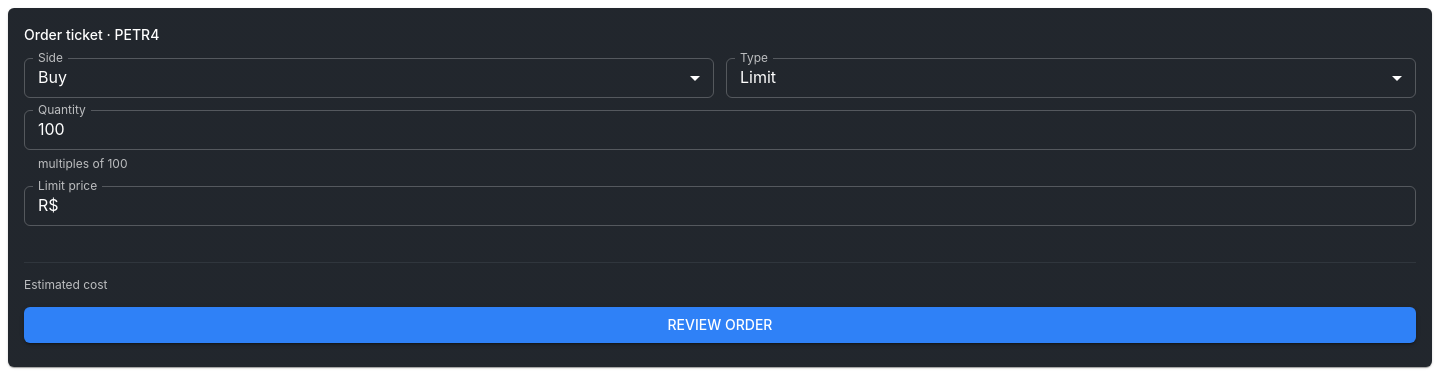
Scenario: the price field › disappears on a market order, which carries no price
Expected: the field labelled "Limit price" is shown, [67,186,1416,226]
What coordinates should you click on to do the following:
click the dropdown named "type"
I would click on:
 (758, 78)
Its box is [740,68,776,88].
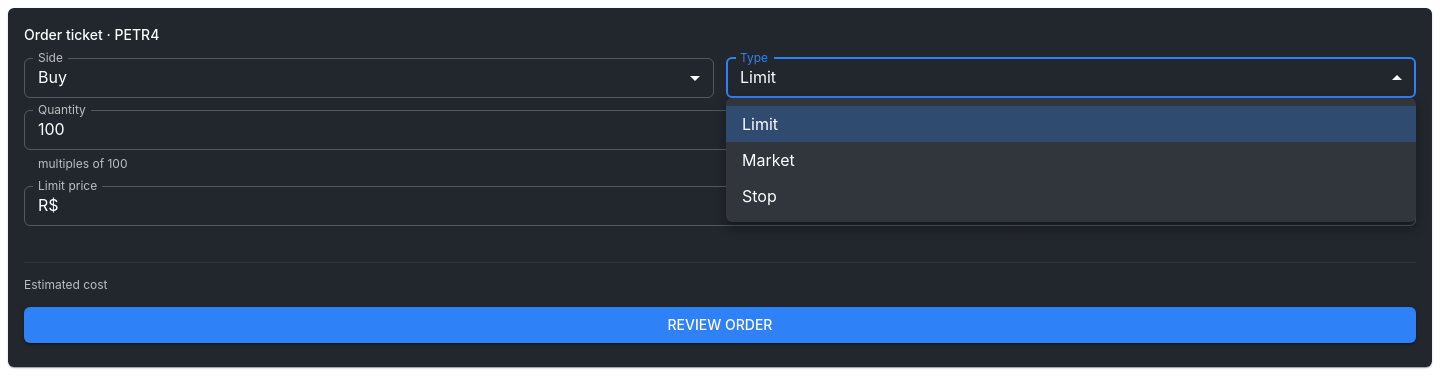
What coordinates should you click on to do the following:
click the option "Market"
I would click on:
 (768, 160)
Its box is [742,150,795,170].
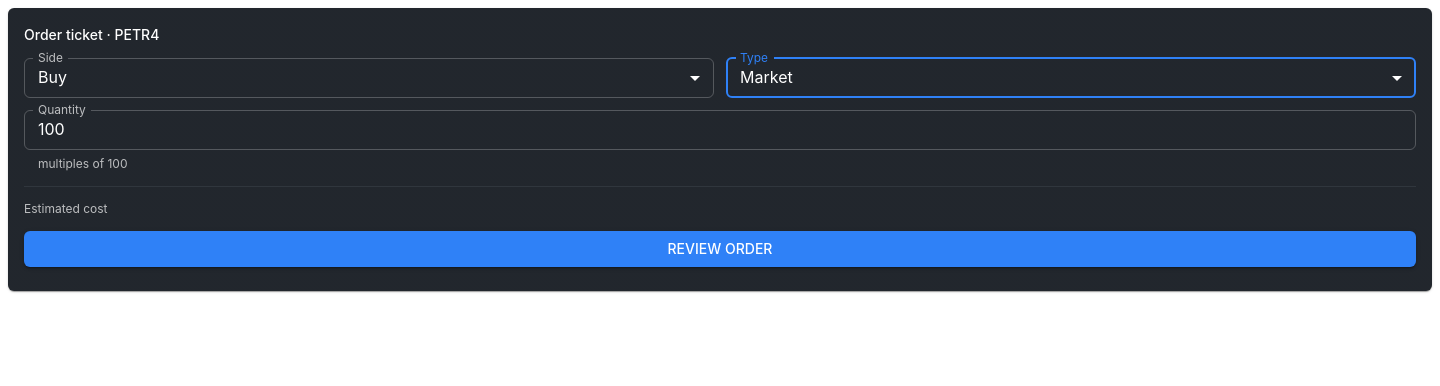
Expected: the label labelled "Limit price" is gone
